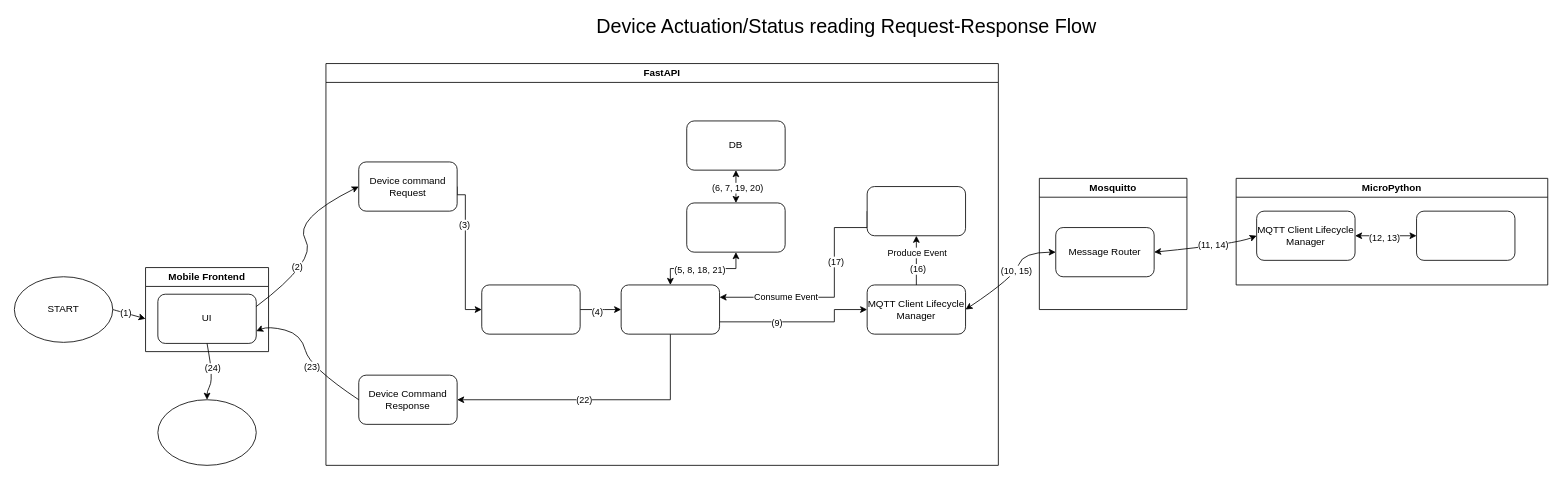
Image size: 1562x480. Some labels were removed from this diagram. The shapes that lost their labels are listed below. From the top down, each one's centre as x and y in pixels, then its label:
At pixel 735 227: "DB Client Lifecycle Manager".
At pixel 916 211: "app_status as an in-memory event broker".
At pixel 1465 235: "Device manager".
At pixel 530 309: "Auth Service".
At pixel 670 309: "Domain Service".
At pixel 206 432: "STOP".
